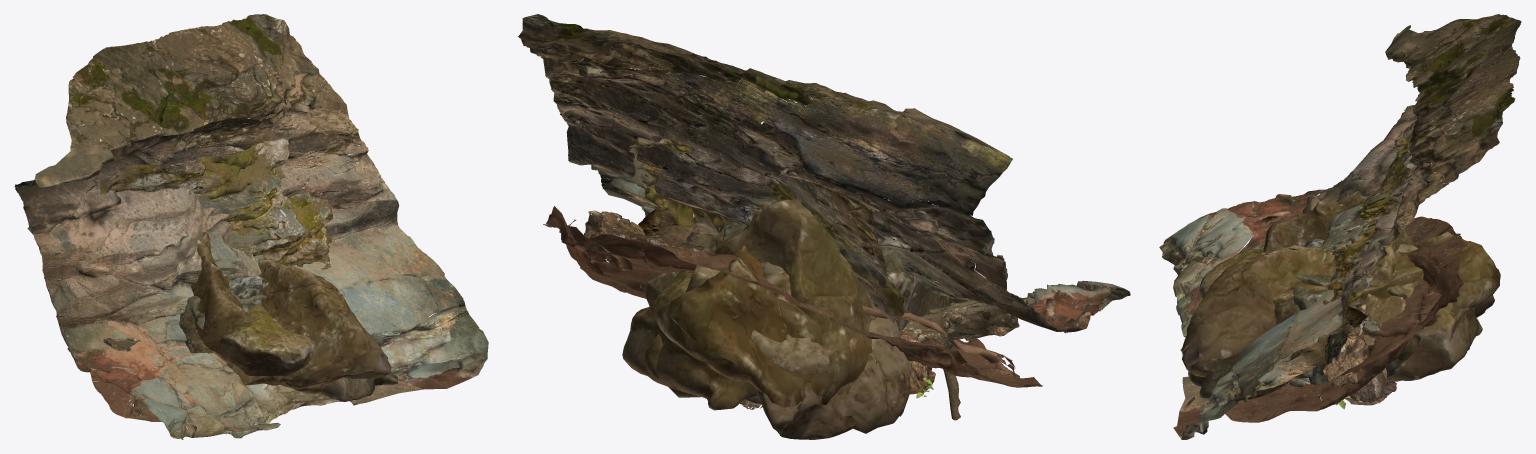
File: props.glb
3 renders of one model, left to right at view 1: azimuth 30°, elevation 25°; view 2: azimuth 150°, elevation 25°; view 3: azimuth 270°, elevation 25°, orthographic. The views are drawn at different scales.
Visible parts, largest first — view 1: rock_face_01, rock_face_02, rock_moss_set_01_0, rock_moss_set_01_4, rock_moss_set_01_3, root_cluster_01, rock_moss_set_01_1, rock_moss_set_02_4, rock_moss_set_01_2, rock_moss_set_02_6; view 2: rock_face_01, rock_moss_set_01_0, root_cluster_01, rock_moss_set_01_3, rock_face_02, rock_moss_set_01_1, rock_moss_set_01_4, dead_tree_trunk_02, rock_moss_set_01_2, rock_moss_set_01_5, rock_moss_set_02_6; view 3: rock_face_01, rock_moss_set_01_0, root_cluster_01, rock_face_02, rock_moss_set_01_4, rock_moss_set_01_3, dead_tree_trunk_02, rock_moss_set_01_5, rock_moss_set_01_1, namaqualand_boulder_02, rock_moss_set_02_6, rock_moss_set_02_4.
Part boxes in pixels (x1=…): rock_face_01: x1=14, y1=14, x2=488, y2=439; rock_face_02: x1=100, y1=138, x2=333, y2=269; rock_moss_set_01_0: x1=226, y1=258, x2=391, y2=389; rock_moss_set_01_4: x1=219, y1=304, x2=314, y2=385; rock_moss_set_01_3: x1=156, y1=232, x2=252, y2=360; root_cluster_01: x1=88, y1=317, x2=416, y2=421; rock_moss_set_01_1: x1=246, y1=309, x2=398, y2=401; rock_moss_set_02_4: x1=231, y1=275, x2=268, y2=311; rock_moss_set_01_2: x1=164, y1=311, x2=226, y2=360; rock_moss_set_02_6: x1=184, y1=275, x2=324, y2=330; rock_face_01: x1=518, y1=14, x2=1130, y2=333; rock_moss_set_01_0: x1=654, y1=211, x2=932, y2=414; root_cluster_01: x1=543, y1=206, x2=1043, y2=387; rock_moss_set_01_3: x1=644, y1=199, x2=885, y2=395; rock_face_02: x1=629, y1=98, x2=904, y2=323; rock_moss_set_01_1: x1=754, y1=262, x2=912, y2=439; rock_moss_set_01_4: x1=622, y1=252, x2=829, y2=410; dead_tree_trunk_02: x1=584, y1=210, x2=1028, y2=420; rock_moss_set_01_2: x1=686, y1=223, x2=953, y2=403; rock_moss_set_01_5: x1=644, y1=226, x2=725, y2=397; rock_moss_set_02_6: x1=719, y1=222, x2=917, y2=299; rock_face_01: x1=1159, y1=14, x2=1521, y2=439; rock_moss_set_01_0: x1=1180, y1=231, x2=1500, y2=377; root_cluster_01: x1=1225, y1=216, x2=1467, y2=422; rock_face_02: x1=1243, y1=120, x2=1416, y2=402; rock_moss_set_01_4: x1=1198, y1=248, x2=1482, y2=381; rock_moss_set_01_3: x1=1263, y1=191, x2=1414, y2=368; dead_tree_trunk_02: x1=1302, y1=195, x2=1369, y2=387; rock_moss_set_01_5: x1=1240, y1=264, x2=1470, y2=359; rock_moss_set_01_1: x1=1188, y1=243, x2=1494, y2=400; namaqualand_boulder_02: x1=1286, y1=368, x2=1396, y2=405; rock_moss_set_02_6: x1=1293, y1=233, x2=1372, y2=378; rock_moss_set_02_4: x1=1301, y1=239, x2=1400, y2=379.
Bounding box in the file's own units: 4.95 × 3.57 × 3.83.
23 materials, 23 textured.
